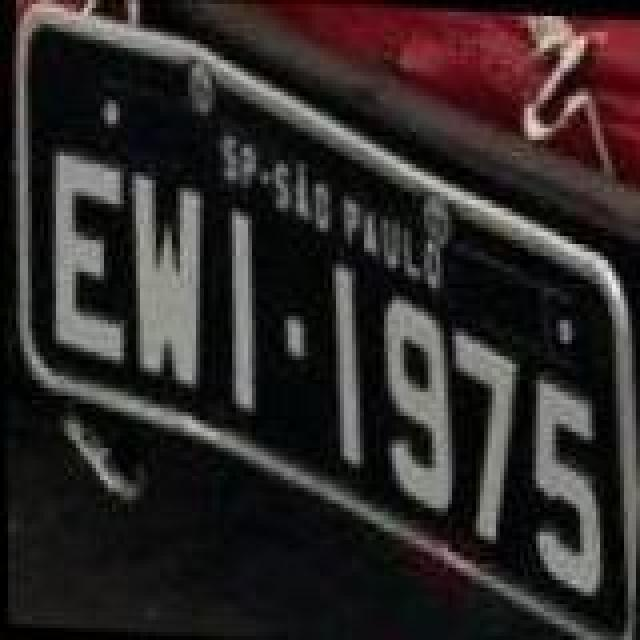1: (322, 264, 374, 468), (220, 214, 268, 414)
5: (520, 376, 612, 600)
7: (442, 326, 522, 542)
9: (372, 294, 460, 510)
E: (38, 148, 134, 364)
W: (120, 172, 208, 388)
